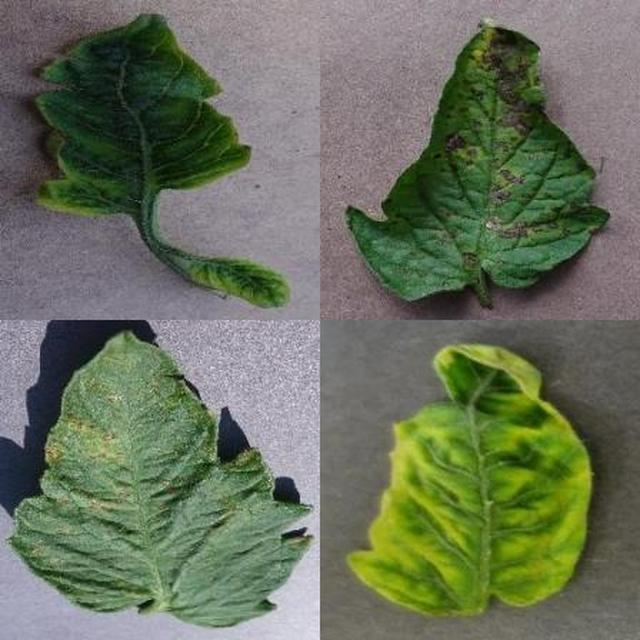Yellow Leaf Curl Virus: (161, 82, 640, 640)
